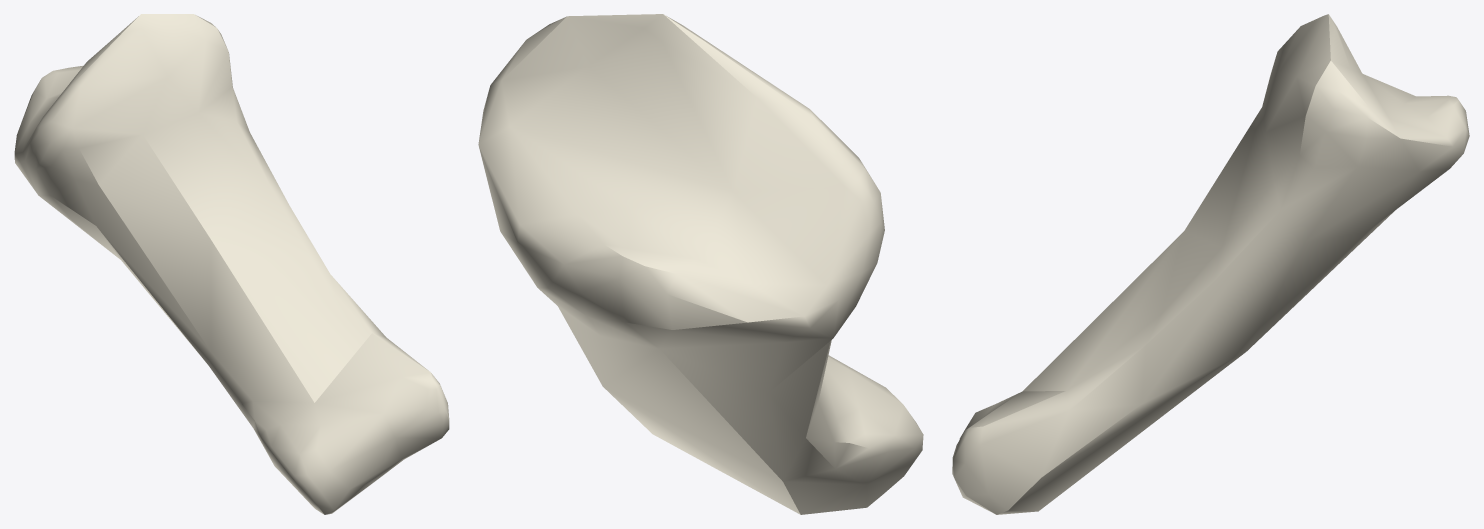
The model's file is fma23938_fj3296.glb.
3 views of the same model, side by side, from view 1: azimuth 30°, elevation 25°; view 2: azimuth 150°, elevation 25°; view 3: azimuth 270°, elevation 25° (orthographic). The views are drawn at different scales.
Visible parts, largest first — view 1: FMA23938_FJ3296; view 2: FMA23938_FJ3296; view 3: FMA23938_FJ3296.
Boxes of the visible parts, x1=… form: FMA23938_FJ3296: x1=14, y1=14, x2=449, y2=514; FMA23938_FJ3296: x1=478, y1=14, x2=923, y2=514; FMA23938_FJ3296: x1=952, y1=14, x2=1469, y2=514.
Size of the model in its own units: 0.0146 by 0.0205 by 0.0208.
